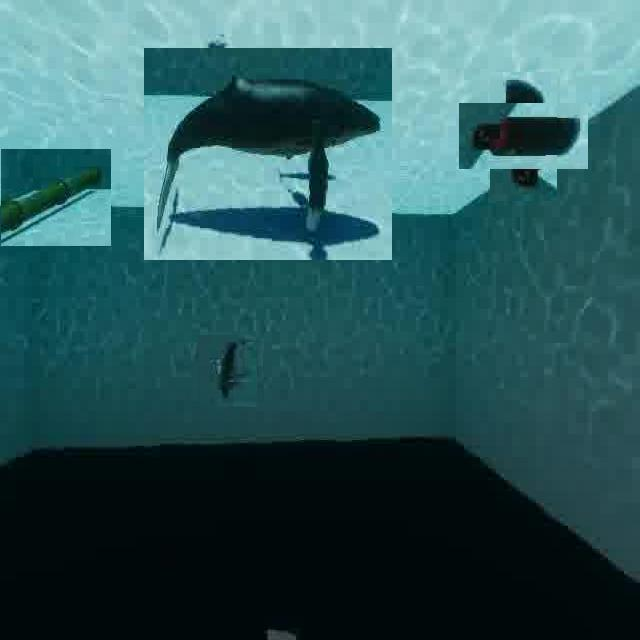Cylinder: (474, 88, 572, 186)
Pipe: (0, 149, 111, 247)
Whale: (144, 48, 392, 260), (194, 338, 260, 404)
